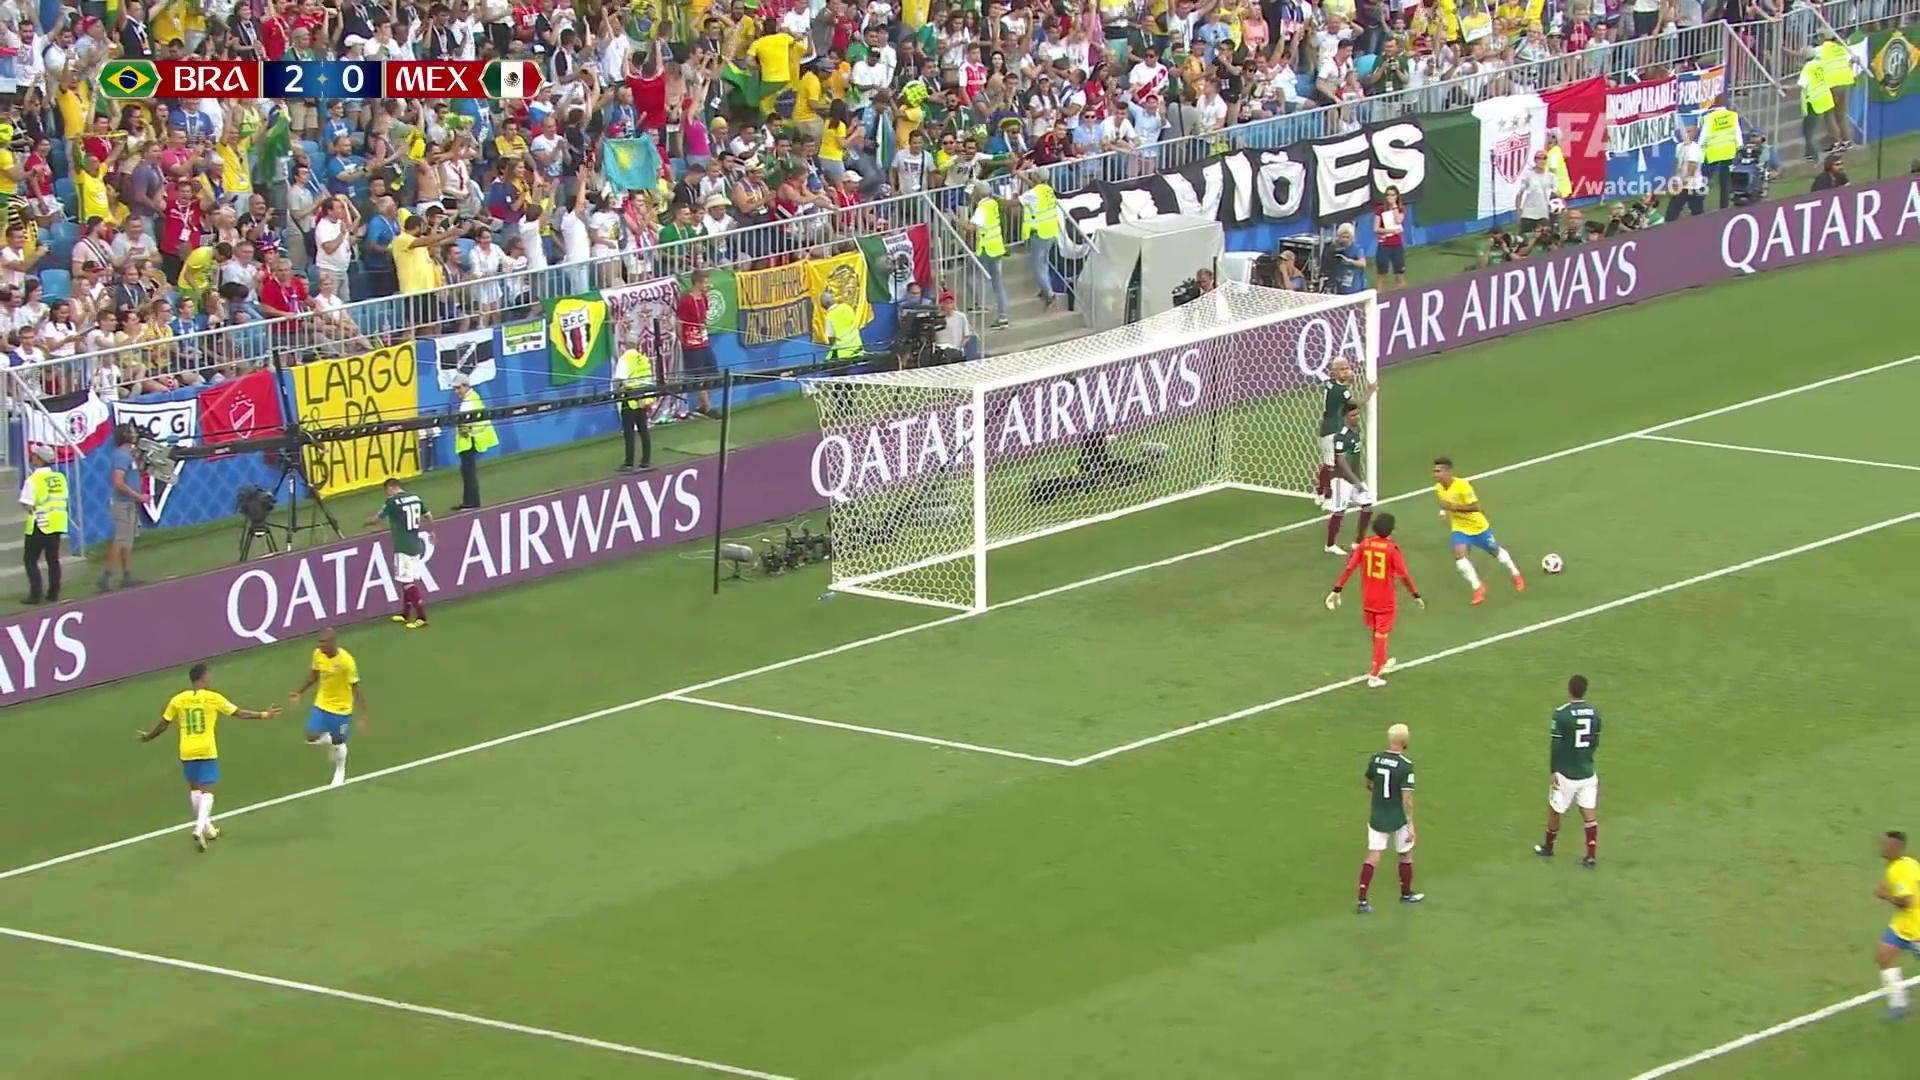ball: (1544, 551, 1560, 572)
person: (144, 667, 281, 847), (1332, 511, 1423, 688), (1433, 459, 1524, 603), (290, 633, 366, 788), (1359, 725, 1423, 907), (1547, 674, 1599, 868), (368, 482, 435, 628), (1321, 360, 1382, 500), (1879, 835, 1920, 999), (1335, 403, 1371, 550)
